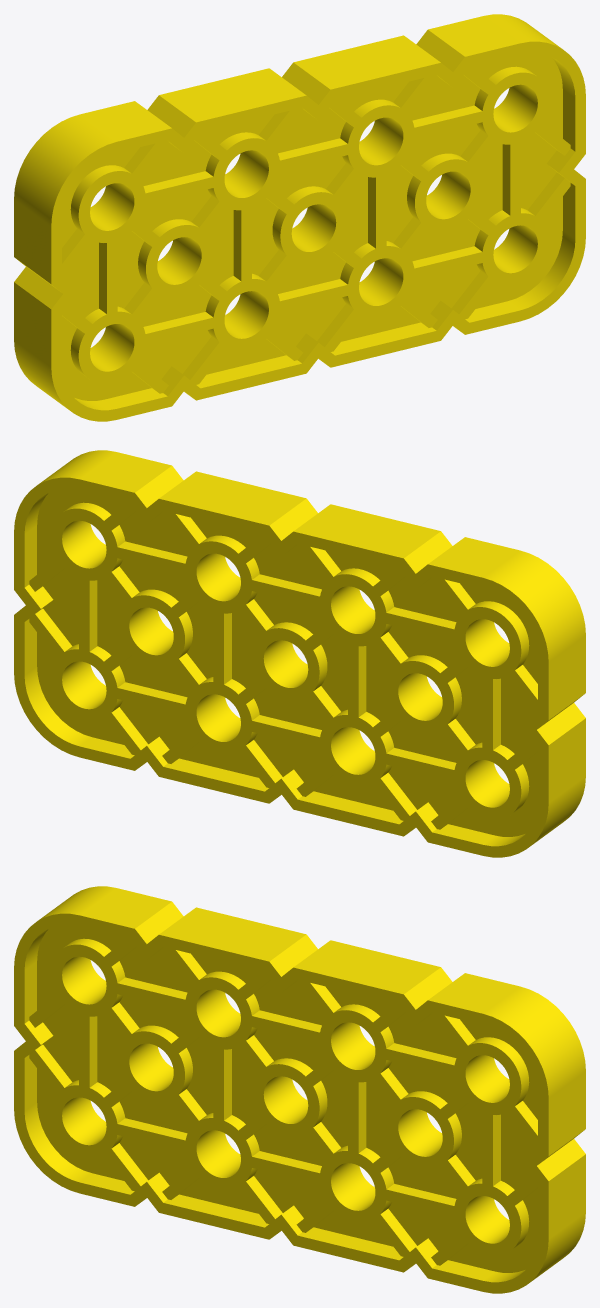
3 views of the same model, one above another, from view 1: azimuth 30°, elevation 25°; view 2: azimuth 150°, elevation 25°; view 3: azimuth 330°, elevation 25° (orthographic).
Parts seen in each view (by area): view 1: main_ffcd00; view 2: main_ffcd00; view 3: main_ffcd00.
Part boxes in pixels (left/top/right/bottom): main_ffcd00: left=14, top=14, right=585, bottom=421; main_ffcd00: left=14, top=450, right=585, bottom=857; main_ffcd00: left=14, top=886, right=585, bottom=1293.
Bounding box in the file's own units: 50.5 × 25.1 × 6.1.
